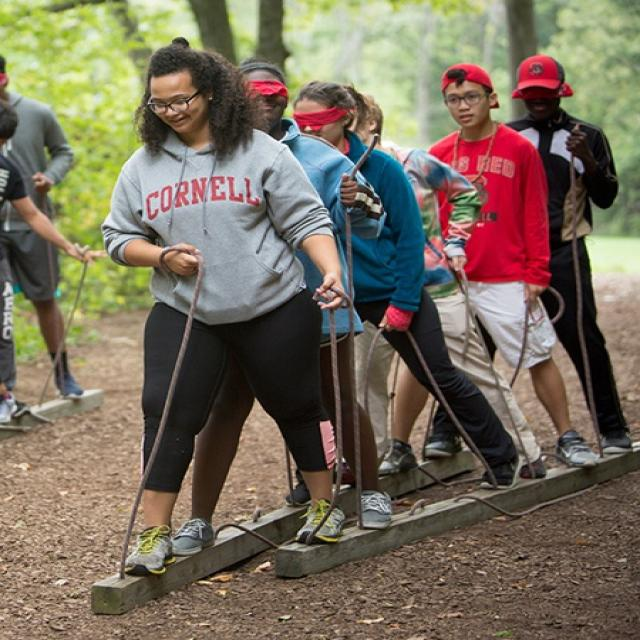body: (96, 33, 352, 580), (162, 52, 397, 560), (279, 77, 526, 510), (363, 59, 607, 477), (414, 49, 636, 463), (333, 90, 552, 483), (0, 51, 87, 405), (0, 94, 88, 405)
